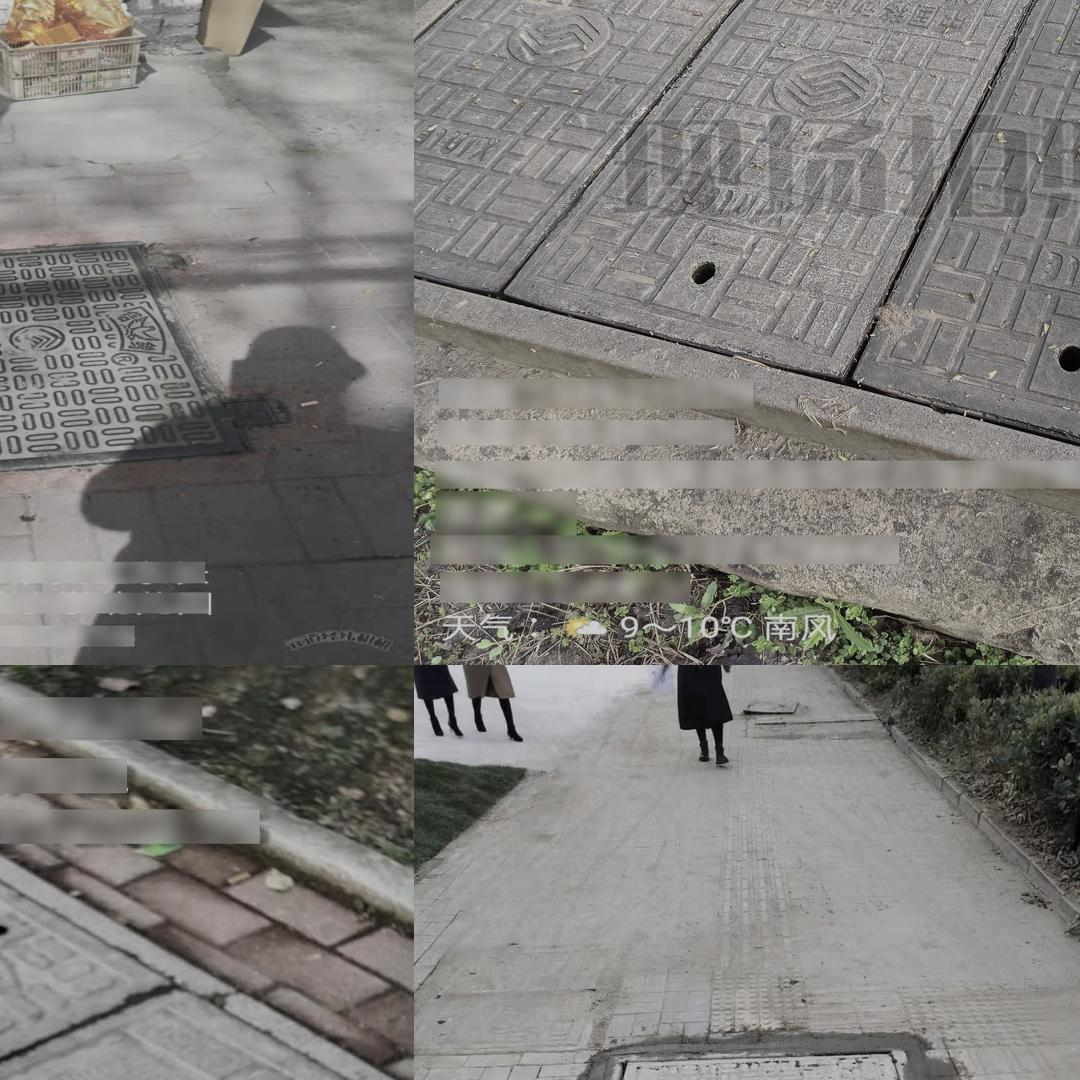good: (414, 0, 1080, 552), (0, 824, 414, 1080), (0, 238, 294, 483), (569, 1053, 973, 1080)
